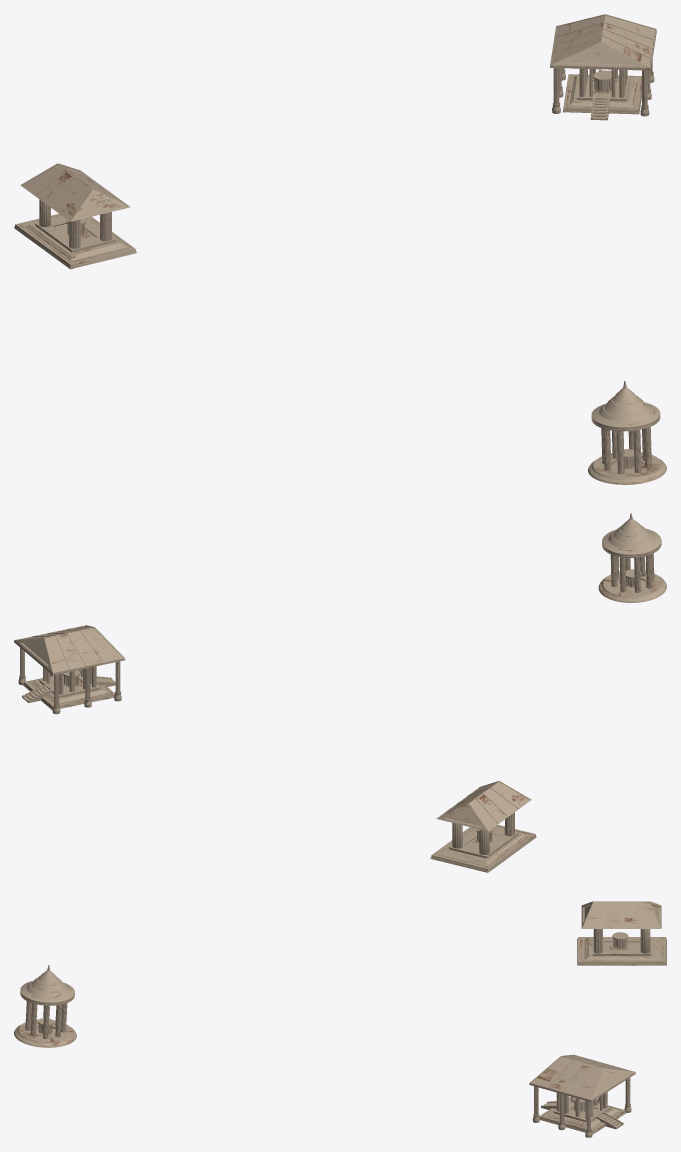
Rendered from 3.2_exam_3dscene_Tempel_simpletextured.glb.
3 views of the same model, one above another, from view 1: azimuth 30°, elevation 25°; view 2: azimuth 150°, elevation 25°; view 3: azimuth 270°, elevation 25° (orthographic). The views are drawn at different scales.
Visible parts, largest first — view 1: Cube.007, Cube.005, Cube, Cylinder.017, Cube.006, Cylinder.008; view 2: Cube.007, Cube.005, Cube, Cylinder.017, Cube.006, Cylinder.008; view 3: Cube.007, Cube.005, Cube, Cylinder.017, Cube.006, Cylinder.008.
Part boxes in pixels (x1,y1,x2,y2): Cube.007: [550, 14, 656, 70]; Cube.005: [20, 163, 130, 221]; Cube: [14, 213, 136, 269]; Cylinder.017: [591, 380, 660, 431]; Cube.006: [562, 74, 641, 114]; Cylinder.008: [588, 452, 666, 484]; Cube.007: [14, 625, 125, 675]; Cube.005: [436, 780, 531, 831]; Cube: [430, 825, 536, 872]; Cylinder.017: [602, 513, 661, 557]; Cube.006: [23, 674, 114, 710]; Cylinder.008: [598, 570, 666, 602]; Cube.007: [529, 1054, 635, 1101]; Cube.005: [581, 901, 661, 928]; Cube: [577, 937, 666, 965]; Cylinder.017: [20, 965, 74, 1005]; Cube.006: [539, 1096, 626, 1134]; Cylinder.008: [14, 1019, 76, 1047].
Bounding box in the file's own units: 52.41 × 10.08 × 62.55.
Materials: 1 (1 with a texture image).
